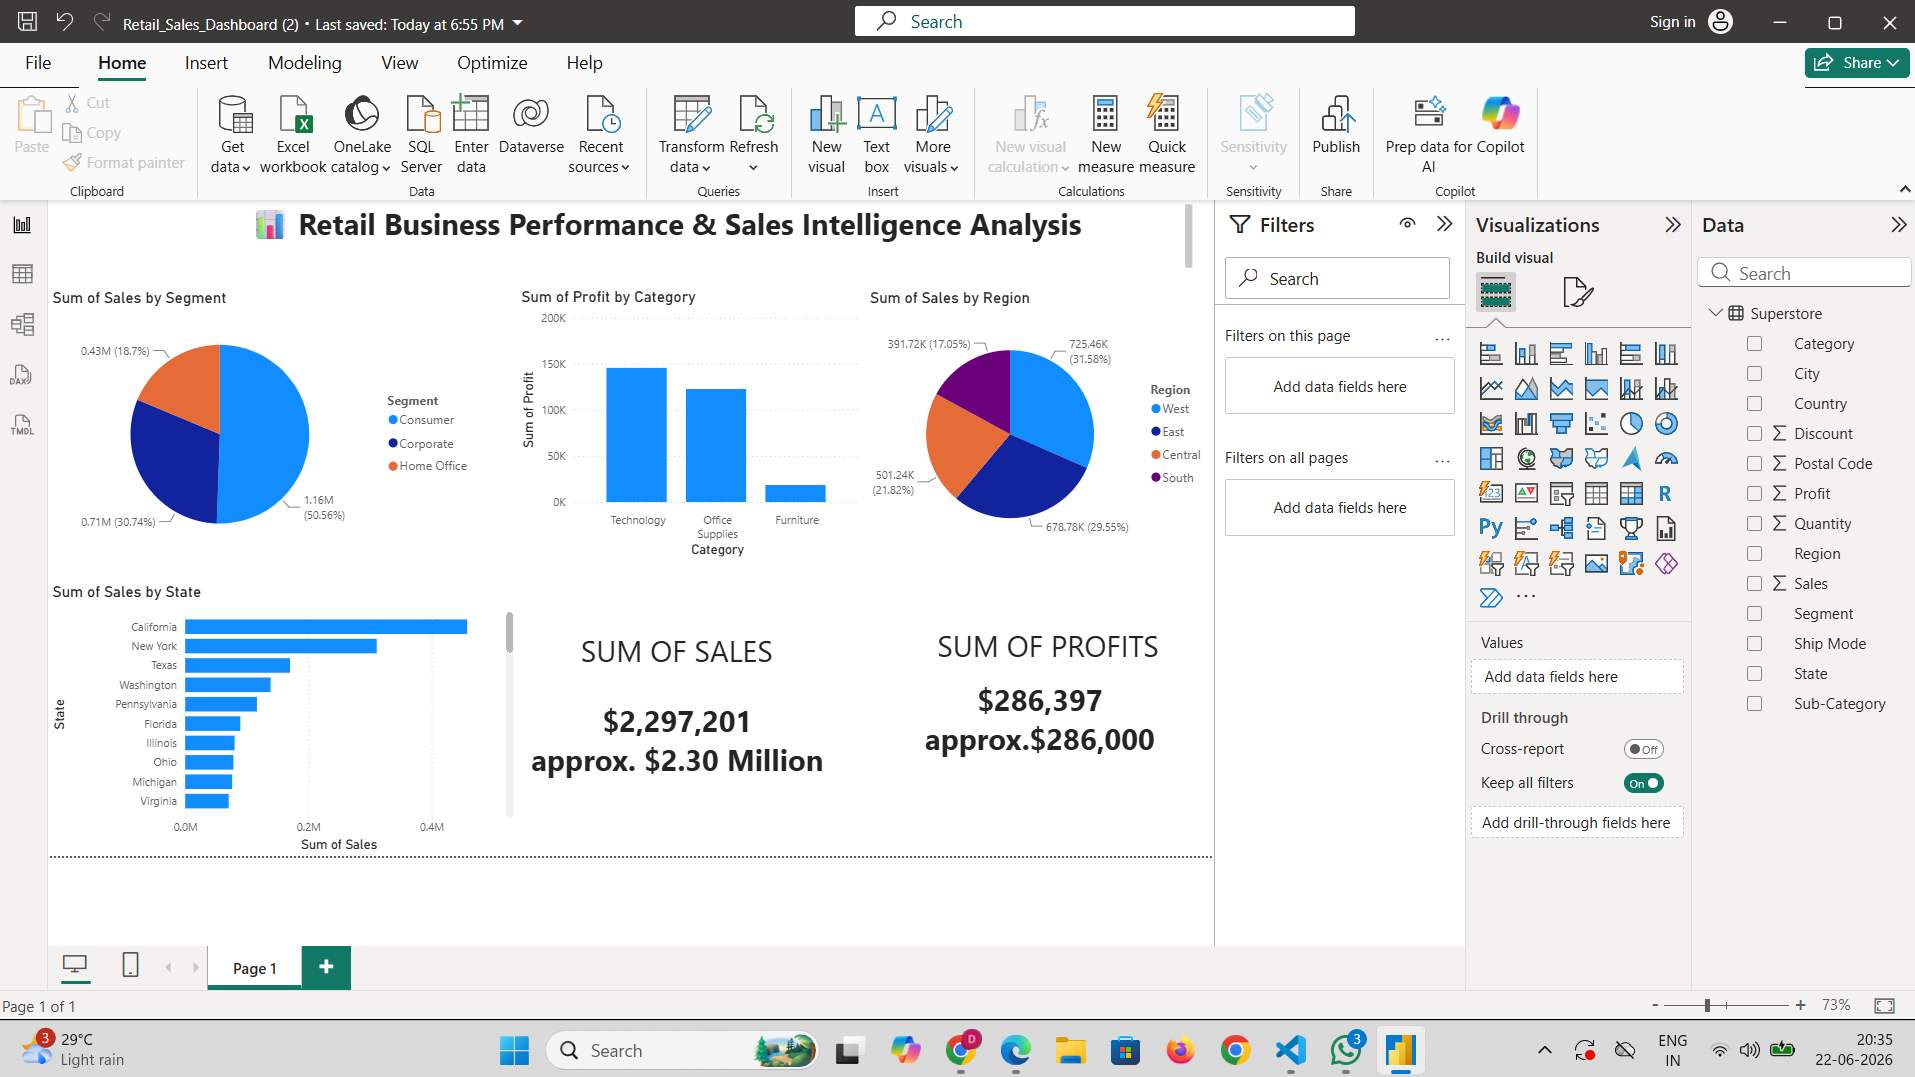

The dashboard page shown, as its layout file describes it:
{"tool":"powerbi","page":{"name":"Page 1","canvas":[1280,720],"ordinal":0},"visuals":[{"type":"pieChart","fields":{"Category":["Superstore.Region"],"Y":["Sum(Superstore.Sales)"]},"box":[897.4,97.4,382.8,300.5],"z":0},{"type":"columnChart","fields":{"Category":["Superstore.Category"],"Y":["Sum(Superstore.Profit)"]},"box":[514.6,96.1,382.8,300.5],"z":1000},{"type":"pieChart","fields":{"Category":["Superstore.Segment"],"Y":["Sum(Superstore.Sales)"]},"box":[0,97.4,474.8,300.5],"z":2000},{"type":"clusteredBarChart","fields":{"Category":["Superstore.State"],"Y":["Sum(Superstore.Sales)"]},"box":[0,419.9,516,300.5],"z":3000},{"type":"textbox","box":[104.3,0,1156.8,83.7],"z":4000},{"type":"textbox","box":[516,450.1,349.9,270.3],"z":5000},{"type":"textbox","box":[897,420,383,276],"z":6000}]}

Visuals, with their boxes on the page's 1280x720 design canvas (x1, y1, x2, y2). These are canvas units, not pixel positions in the 1915x1077 screenshot, which may show the page scaled, cropped or inside an application window:
pieChart - Superstore.Region x Sum(Superstore.Sales): x1=897, y1=97, x2=1280, y2=398
columnChart - Superstore.Category x Sum(Superstore.Profit): x1=515, y1=96, x2=897, y2=397
pieChart - Superstore.Segment x Sum(Superstore.Sales): x1=0, y1=97, x2=475, y2=398
clusteredBarChart - Superstore.State x Sum(Superstore.Sales): x1=0, y1=420, x2=516, y2=720
textbox: x1=104, y1=0, x2=1261, y2=84
textbox: x1=516, y1=450, x2=866, y2=720
textbox: x1=897, y1=420, x2=1280, y2=696
